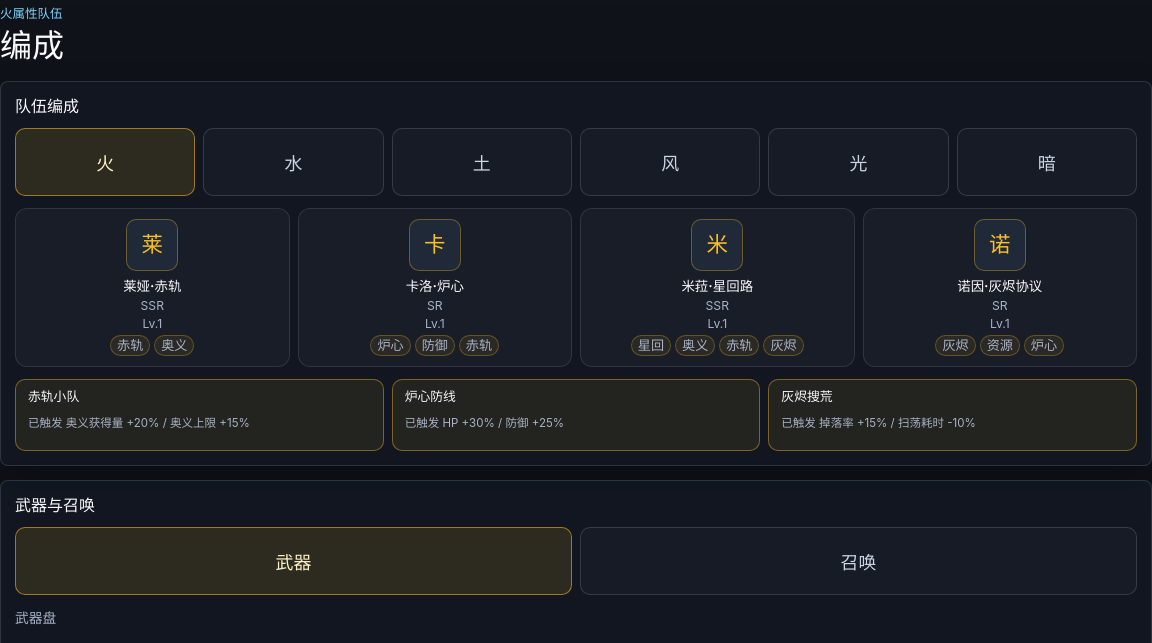
formation screen › swaps team members from a floating picker
What coordinates should you click on to do the following:
click the button with test id "character-slot-trigger-0"
I would click on:
 (152, 287)
Its box is [15,208,290,367].
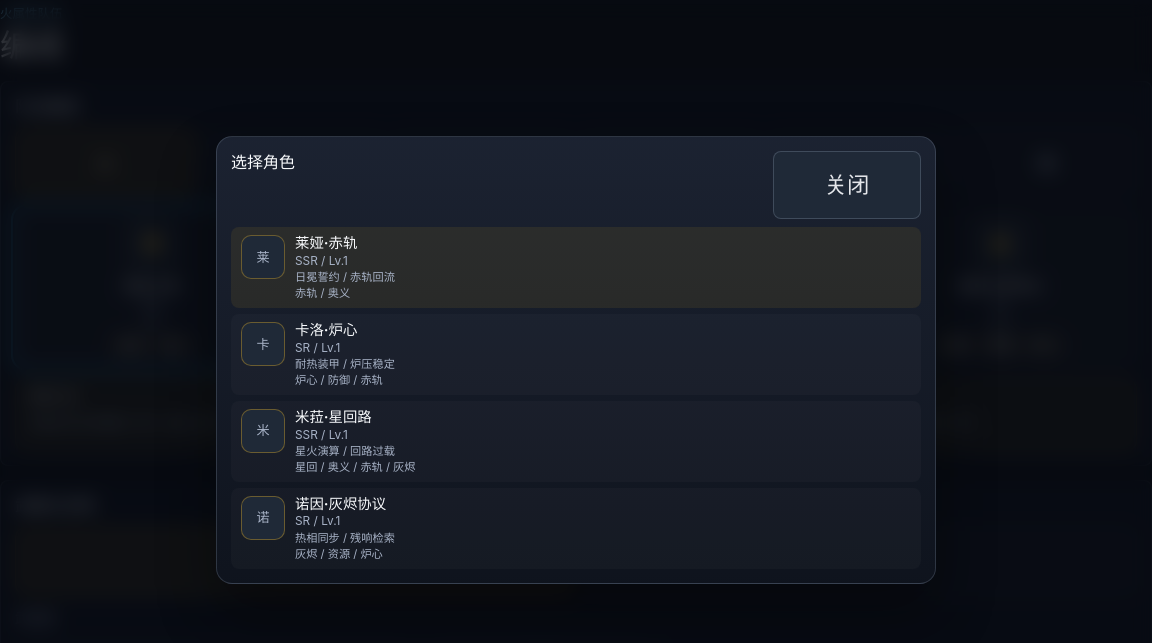
Check: the dialog is shown, box [216,136,936,584]
Check: the text "灰烬 / 资源 / 炉心" is shown, box [295,547,383,561]
What coordinates should you click on to do the following:
click the button with test id "character-picker-option-char-noin-ash-protocol"
I would click on:
 (263, 518)
Its box is [231,488,921,569].
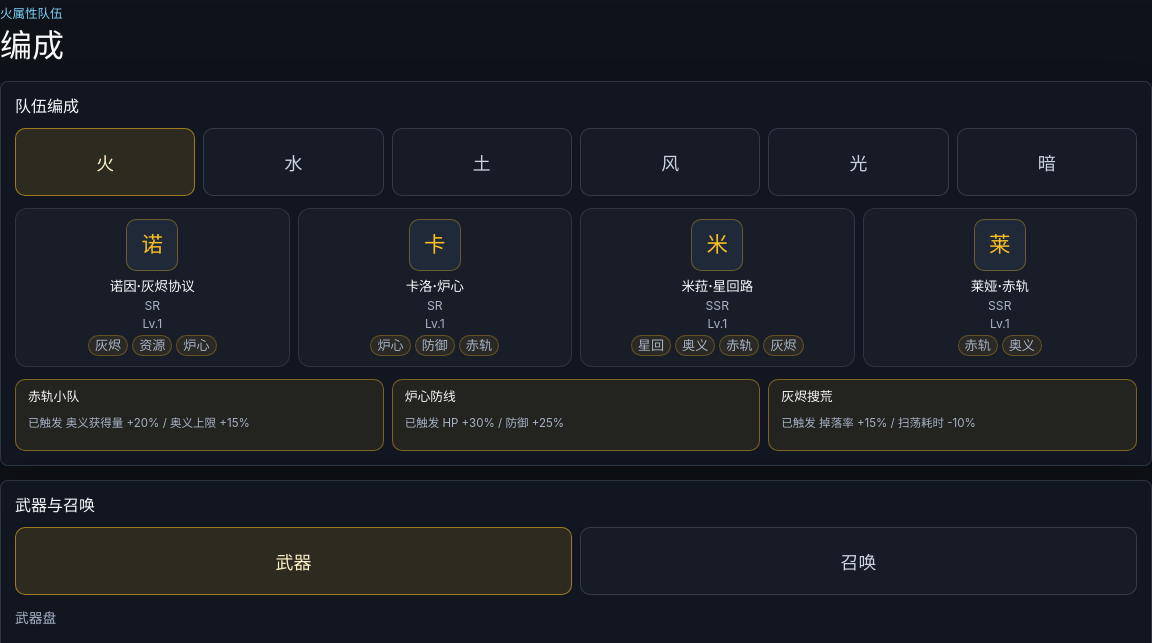
Check: the button with test id "character-slot-trigger-0" shows "诺因·灰烬协议", box [15,208,290,367]
Check: the button with test id "character-slot-trigger-3" shows "莱娅·赤轨", box [862,208,1137,367]
